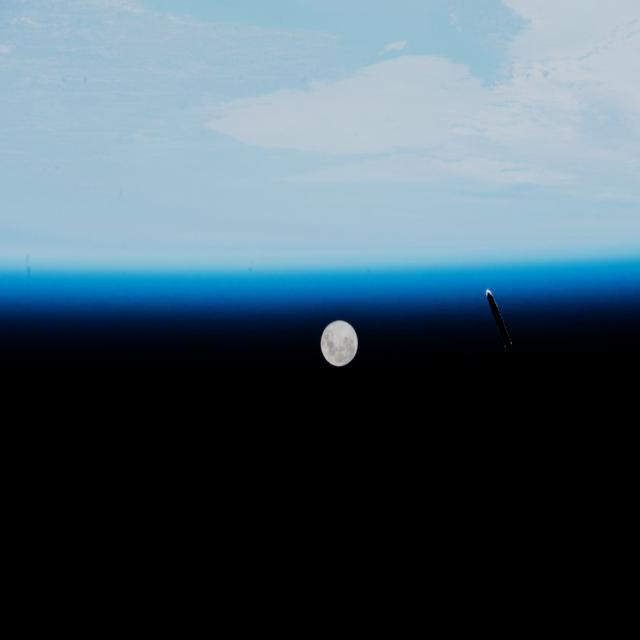satellite: (473, 278, 518, 368)
